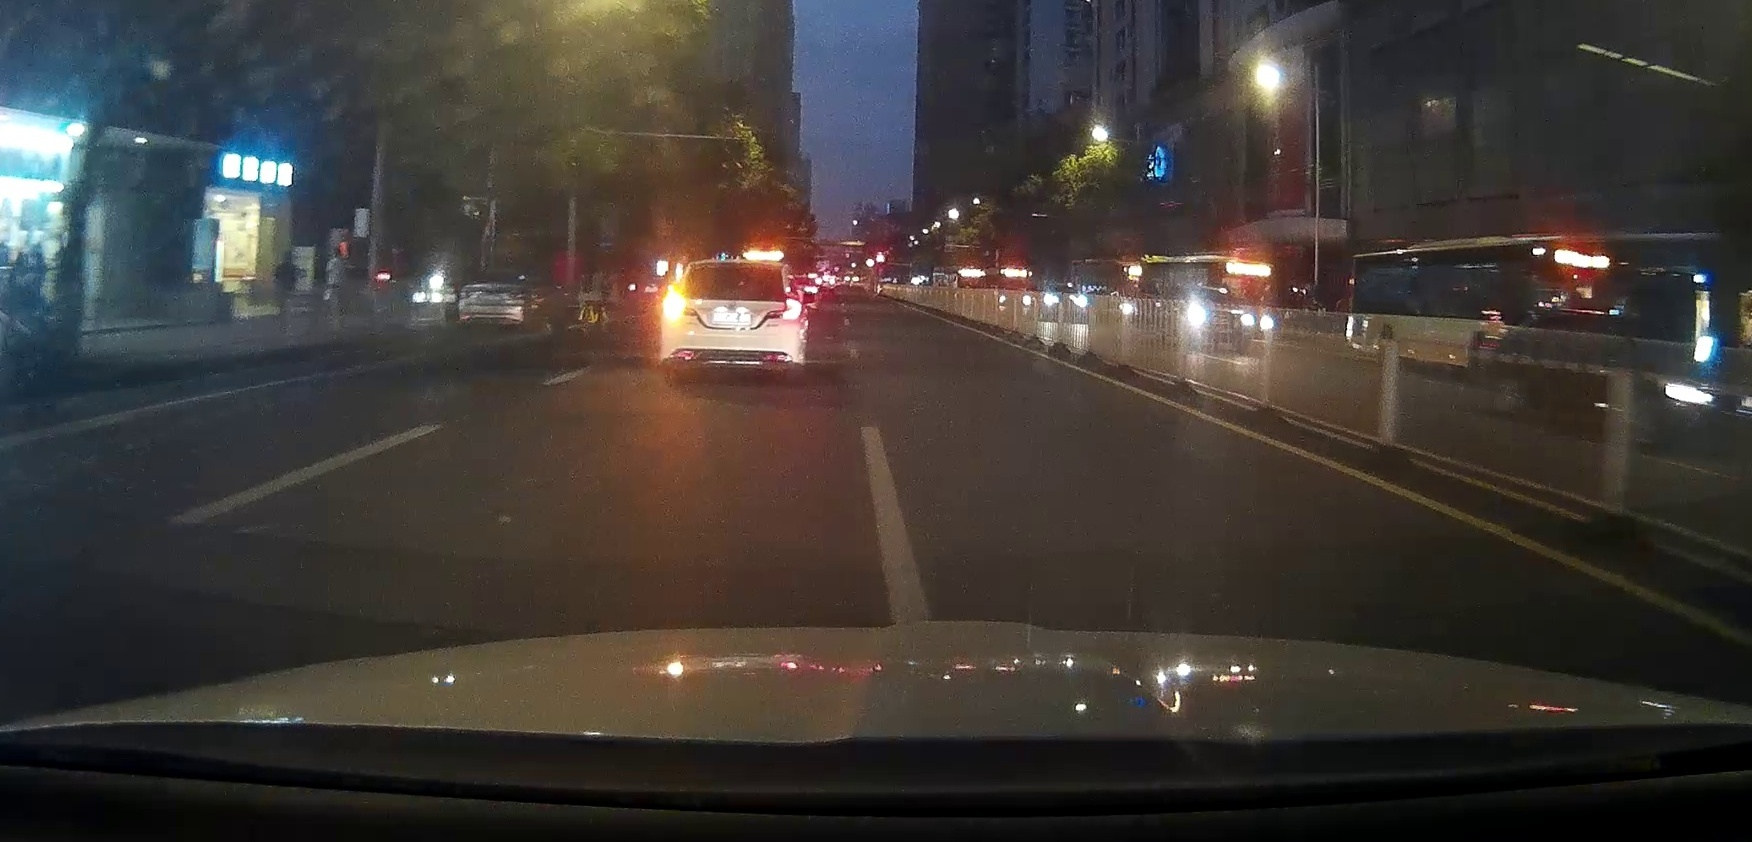L_light: (661, 287, 686, 323)
R_light: (782, 298, 802, 320)
T_light: (726, 261, 750, 265)
night-left: (659, 259, 803, 381)
